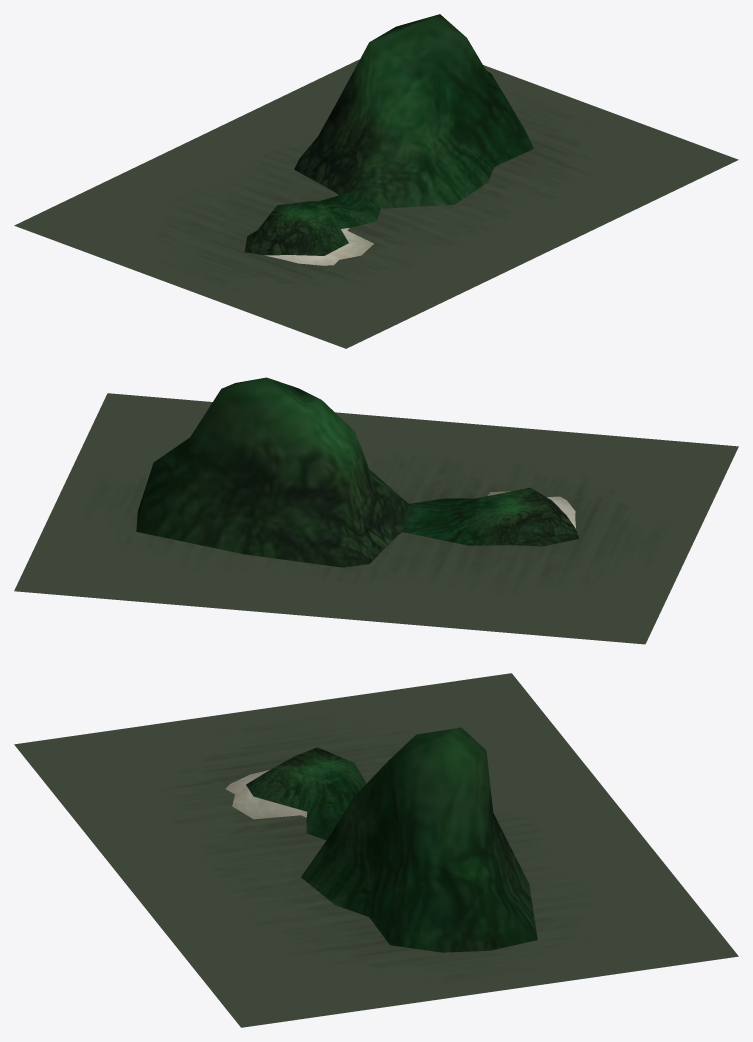
The model's file is pir_m_are_isl_tormenta_worldmap.fbx.
3 renders of one model, top to bottom at view 1: azimuth 30°, elevation 25°; view 2: azimuth 150°, elevation 25°; view 3: azimuth 270°, elevation 25°, orthographic. The views are drawn at different scales.
Visible parts, largest first — view 1: sketchmark, lod_mesh, lod_mesh5, lod_mesh1; view 2: sketchmark, lod_mesh, lod_mesh5; view 3: sketchmark, lod_mesh, lod_mesh5, lod_mesh1.
Part boxes in pixels (left/top/right/bottom): sketchmark: left=14, top=59, right=738, bottom=348; lod_mesh: left=294, top=14, right=533, bottom=208; lod_mesh5: left=244, top=190, right=380, bottom=255; lod_mesh1: left=264, top=228, right=373, bottom=265; sketchmark: left=14, top=393, right=738, bottom=644; lod_mesh: left=136, top=377, right=408, bottom=567; lod_mesh5: left=402, top=487, right=579, bottom=546; sketchmark: left=14, top=673, right=738, bottom=1027; lod_mesh: left=300, top=727, right=537, bottom=952; lod_mesh5: left=246, top=747, right=366, bottom=840; lod_mesh1: left=225, top=770, right=307, bottom=819.
Bounding box in the file's own units: 43.11 × 9.36 × 37.24.
Materials: 2 (2 with a texture image).
